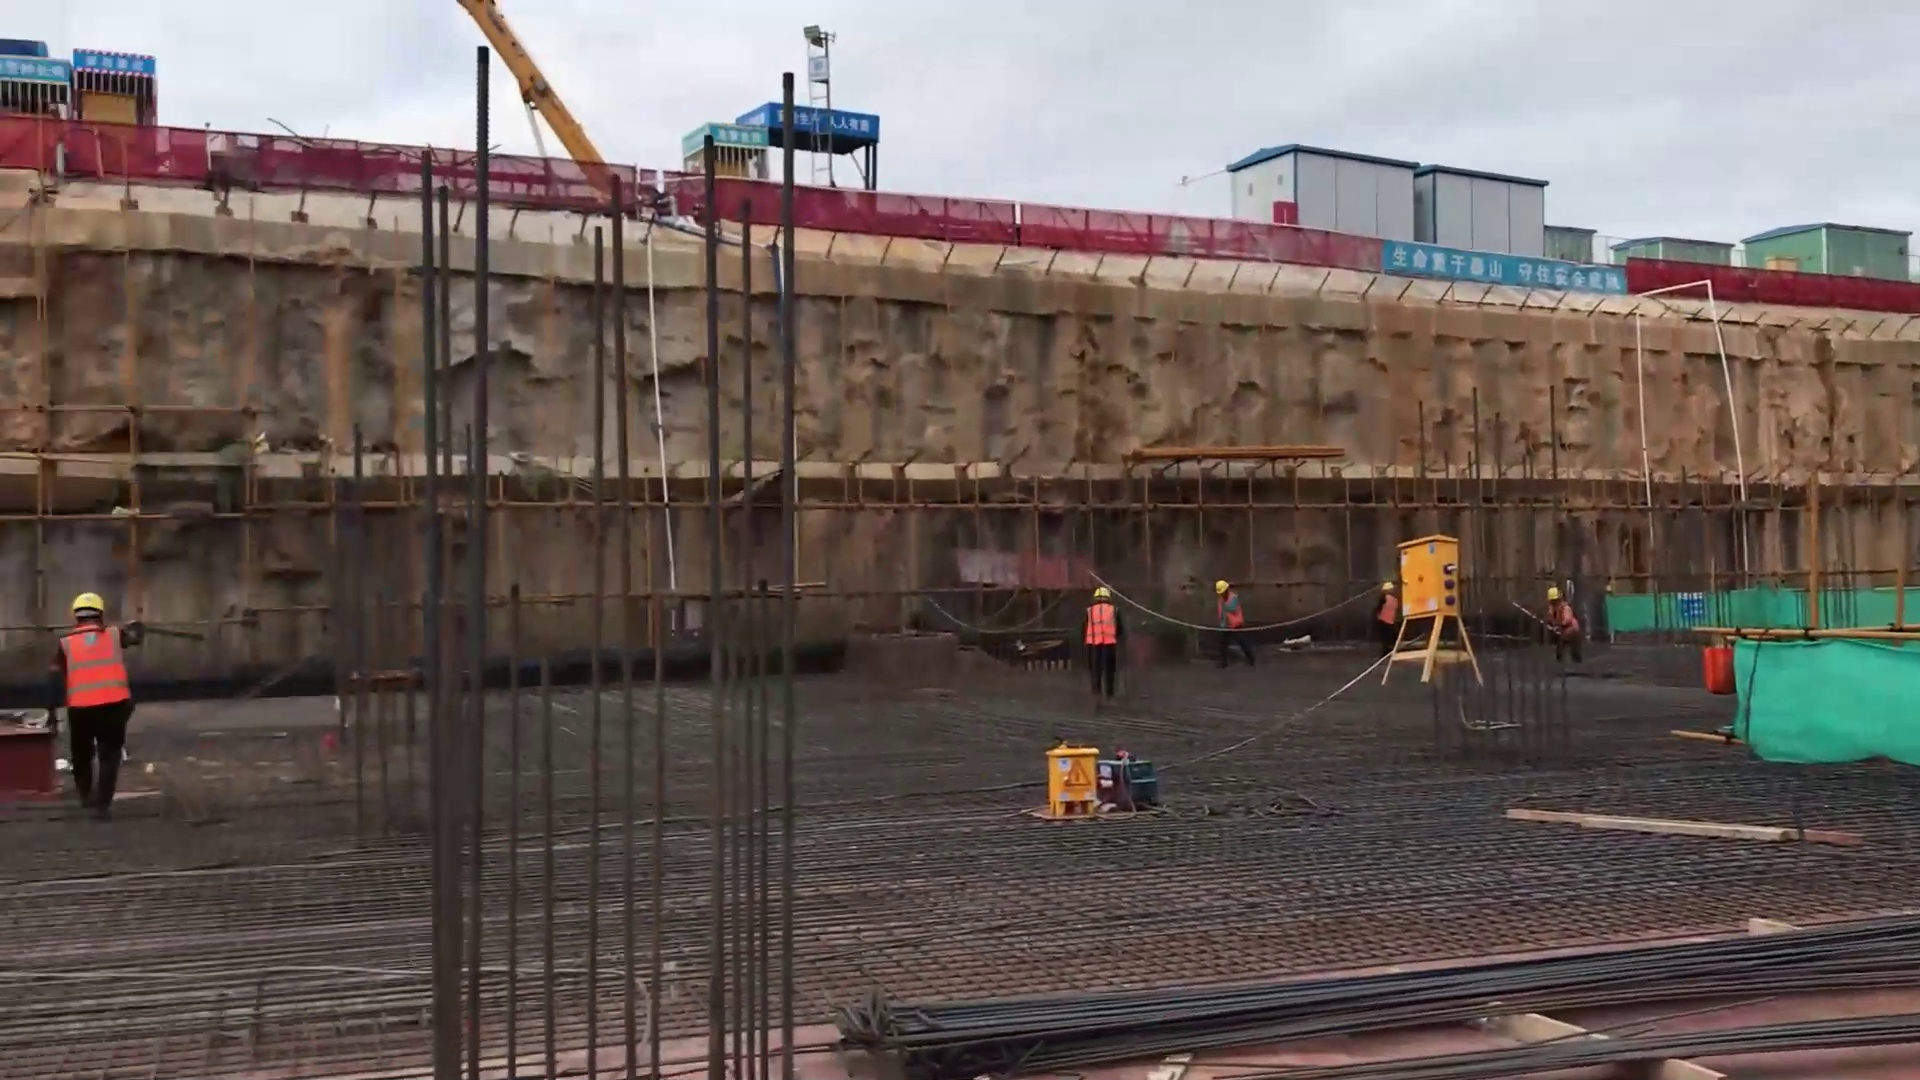helmet: (66, 593, 105, 611), (1214, 582, 1231, 593), (1089, 588, 1110, 598), (1549, 586, 1560, 600), (1380, 581, 1395, 591)
person: (38, 591, 136, 810), (1073, 586, 1126, 705), (1201, 578, 1261, 671), (1541, 578, 1584, 655), (1363, 576, 1396, 653)
vest: (71, 626, 121, 713), (1084, 605, 1118, 645), (1223, 598, 1254, 633), (1371, 596, 1393, 638), (1554, 600, 1574, 636)
